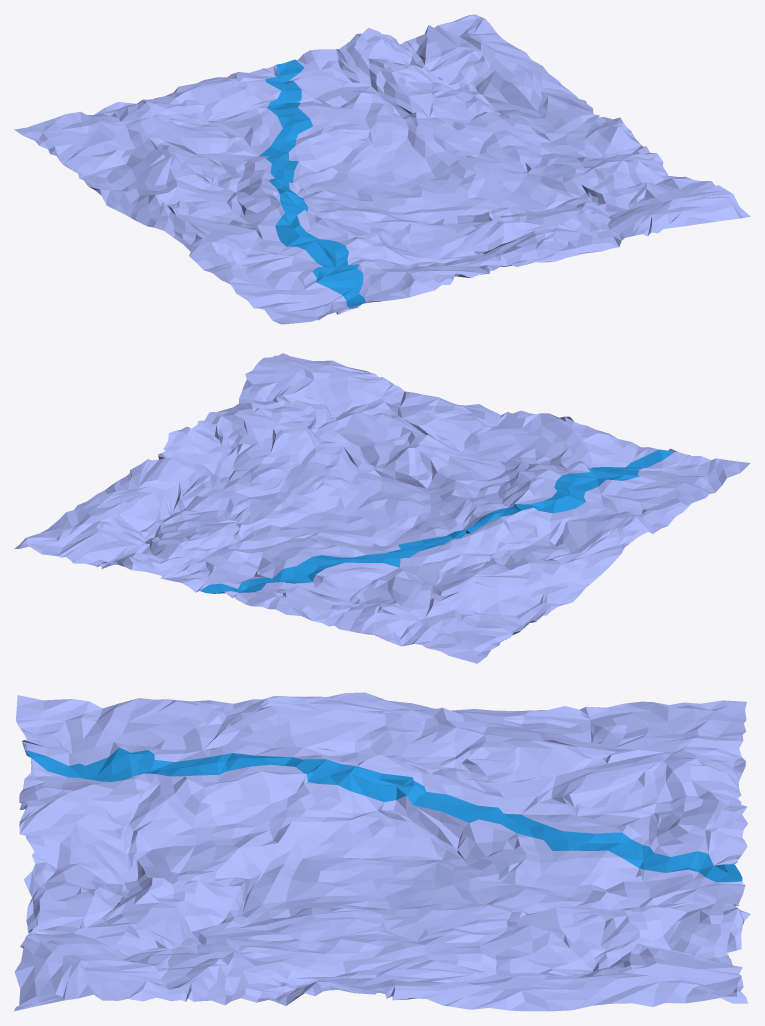
The model's file is sol.fbx.
3 renders of one model, top to bottom at view 1: azimuth 30°, elevation 25°; view 2: azimuth 150°, elevation 25°; view 3: azimuth 270°, elevation 25°, orthographic. The views are drawn at different scales.
Parts seen in each view (by area): view 1: Grid; view 2: Grid; view 3: Grid.
Part boxes in pixels (left/top/right/bottom): Grid: left=14, top=14, right=750, bottom=324; Grid: left=14, top=353, right=750, bottom=663; Grid: left=14, top=692, right=750, bottom=1011.
Size of the model in its own units: 12567 by 971 by 12647.
